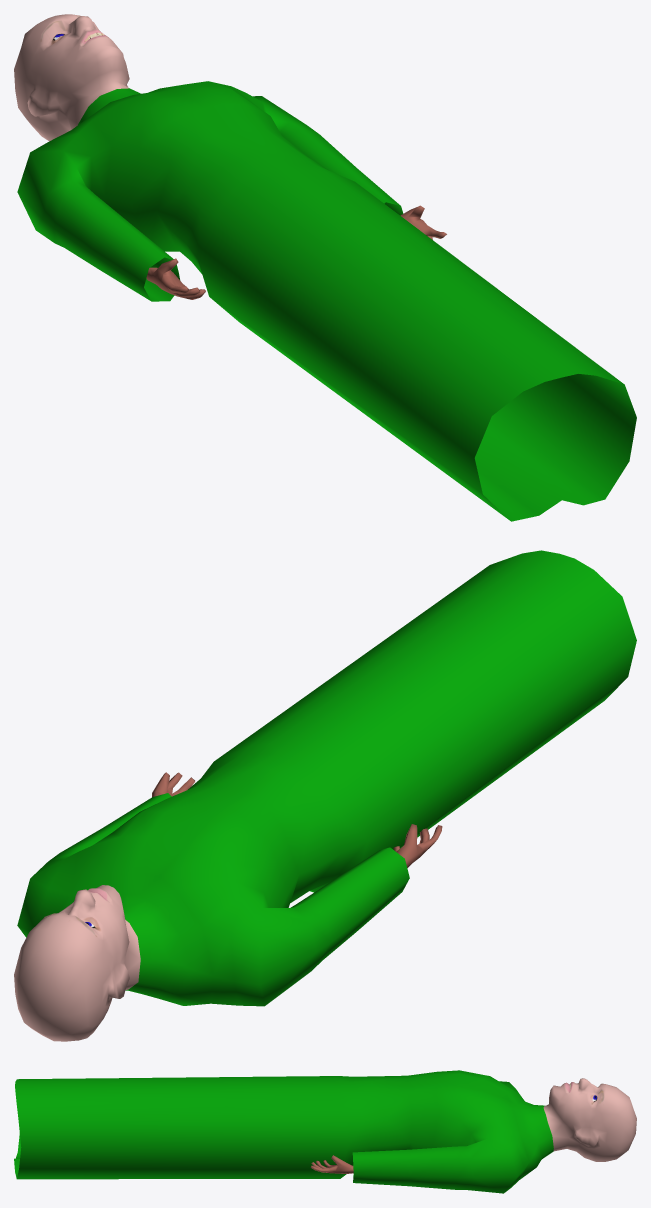
File: gownfigure1.dae
3 views of the same model, one above another, from view 1: azimuth 30°, elevation 25°; view 2: azimuth 150°, elevation 25°; view 3: azimuth 270°, elevation 25° (orthographic). The views are drawn at different scales.
Parts seen in each view (by area): view 1: gown1; view 2: gown1; view 3: gown1.
Boxes of the visible parts, x1=… form: gown1: x1=14, y1=14, x2=636, y2=521; gown1: x1=14, y1=550, x2=636, y2=1041; gown1: x1=14, y1=1070, x2=636, y2=1193.
Size of the model in its own units: 0.0675 by 0.0348 by 0.221.
4 materials, 1 textured.
